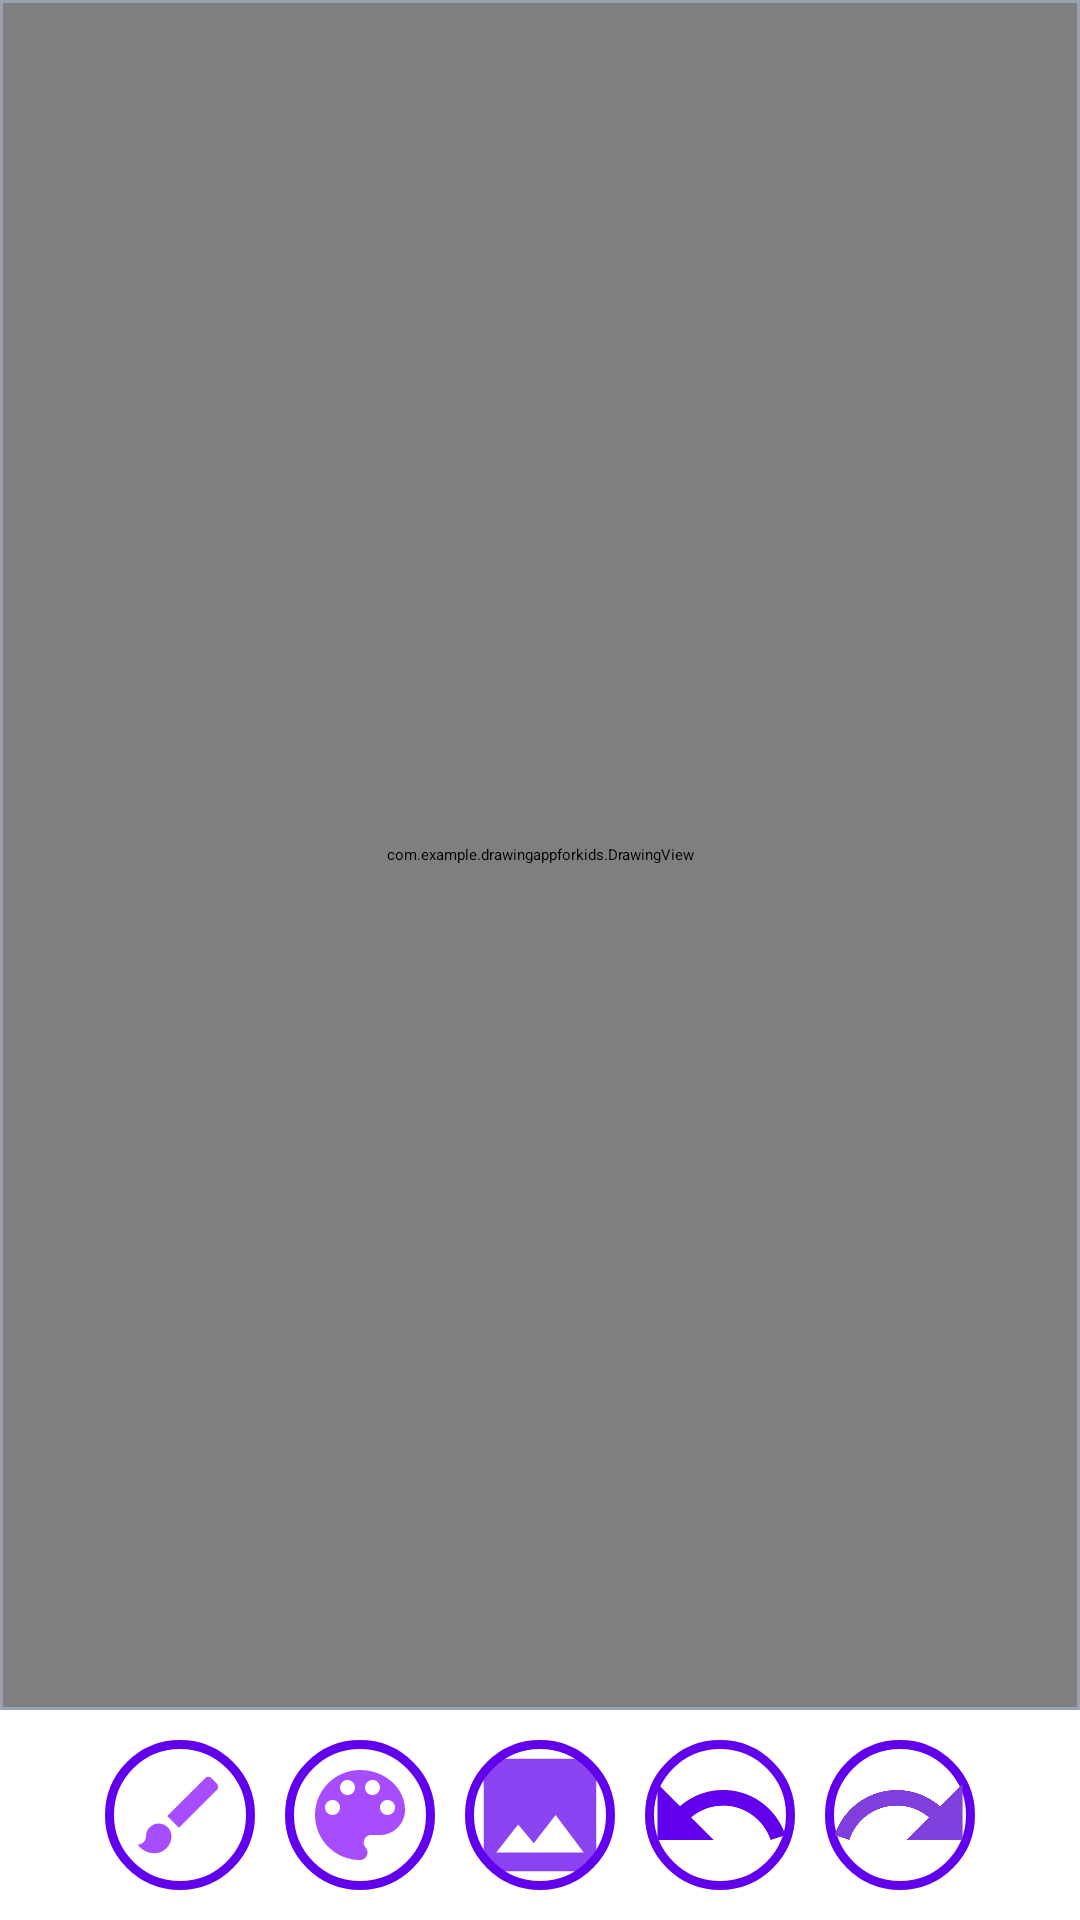

Where icons sit on this 1080x1920 app screen, as bbox=(x1, y1, x2, y2):
Button to choose brush: bbox=(105, 1740, 255, 1890)
Button to choose image from gallery: bbox=(465, 1740, 615, 1890)
Palette: bbox=(285, 1740, 435, 1890)
Redo Button: bbox=(825, 1740, 975, 1890)
Undo Button: bbox=(645, 1740, 795, 1890)
